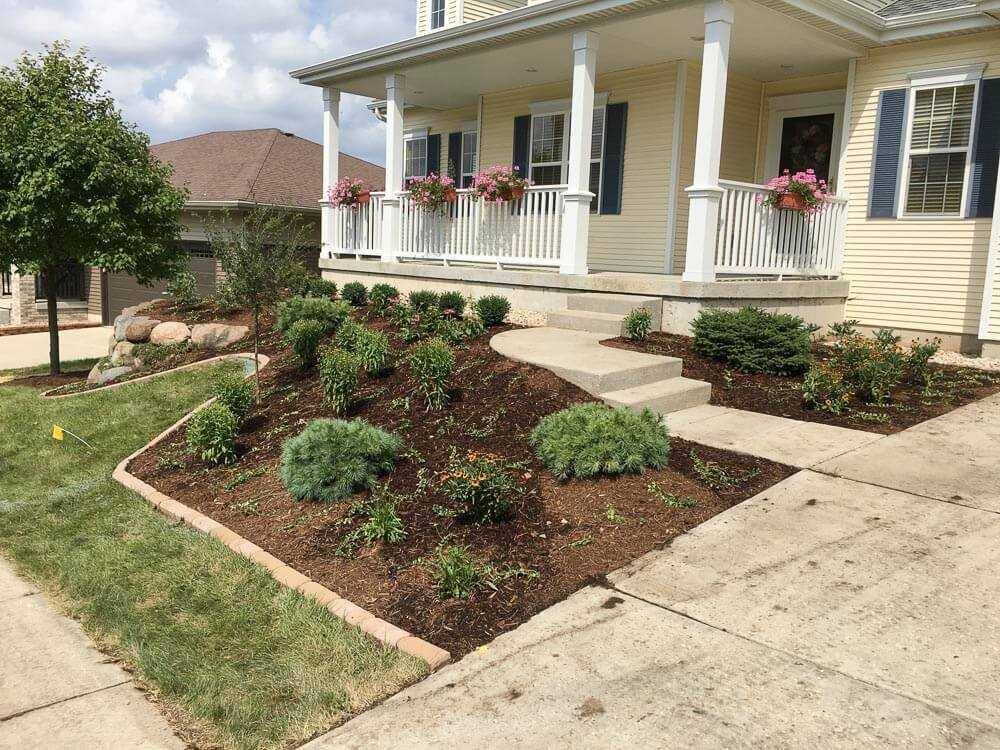bush: (524, 396, 688, 478), (276, 410, 399, 500), (694, 308, 831, 379)
tree: (3, 44, 184, 374), (202, 190, 313, 413)
